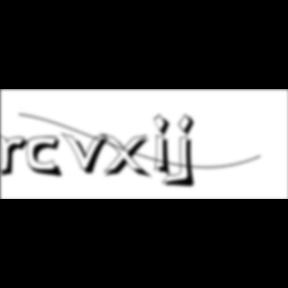c: (27, 136, 67, 180)
i: (154, 112, 178, 180)
j: (174, 113, 202, 191)
r: (1, 134, 36, 180)
v: (62, 131, 116, 177)
x: (100, 132, 156, 181)
